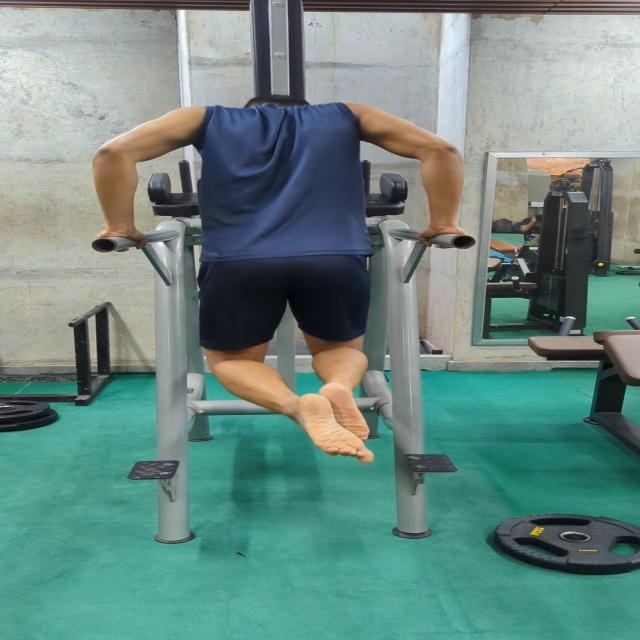Normal_Dips: (86, 87, 468, 468)
